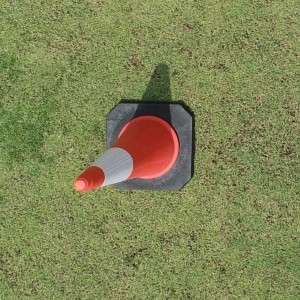traffic cone: (74, 101, 192, 191)
